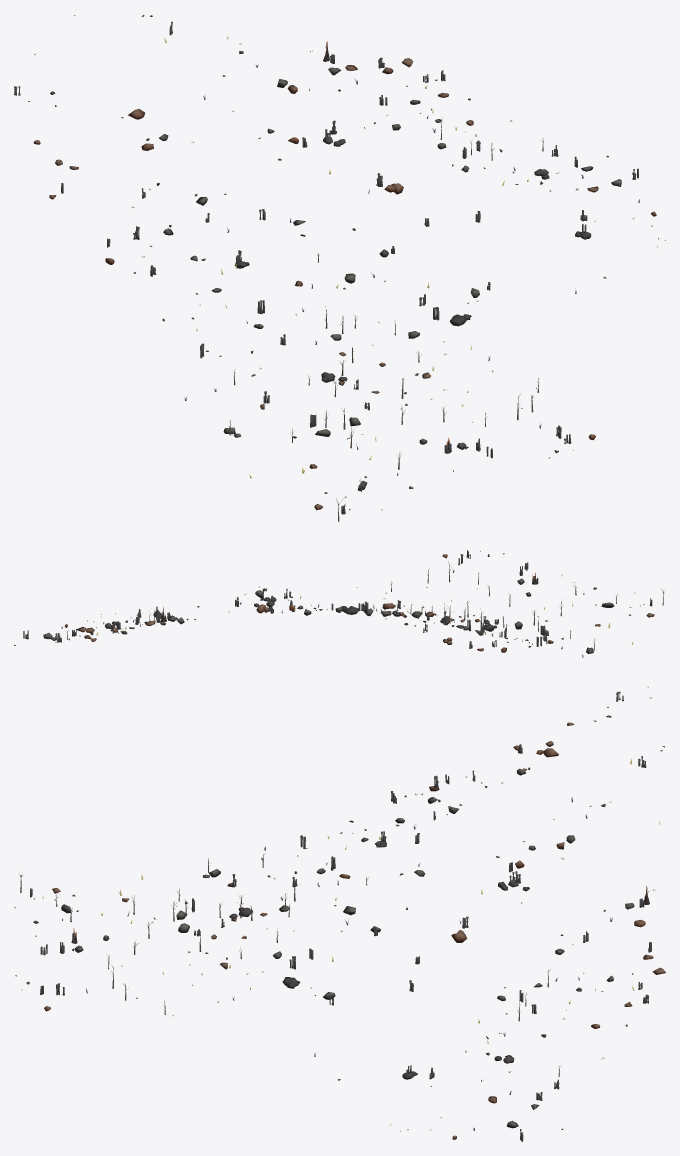
The model's file is ash_land_scatter_c21_29.glb.
The picture shows the model from 3 angles, top to bottom: view 1: azimuth 30°, elevation 25°; view 2: azimuth 150°, elevation 25°; view 3: azimuth 270°, elevation 25°; orthographic projection. The views are drawn at different scales.
Visible parts, largest first — view 1: ash_land_scatter_c21_29; view 2: ash_land_scatter_c21_29; view 3: ash_land_scatter_c21_29.
Part boxes in pixels (<box>): ash_land_scatter_c21_29: <box>14,15,665,521</box>; ash_land_scatter_c21_29: <box>14,550,665,657</box>; ash_land_scatter_c21_29: <box>14,686,665,1141</box>.
Size of the model in its own units: 253 by 102 by 253.
